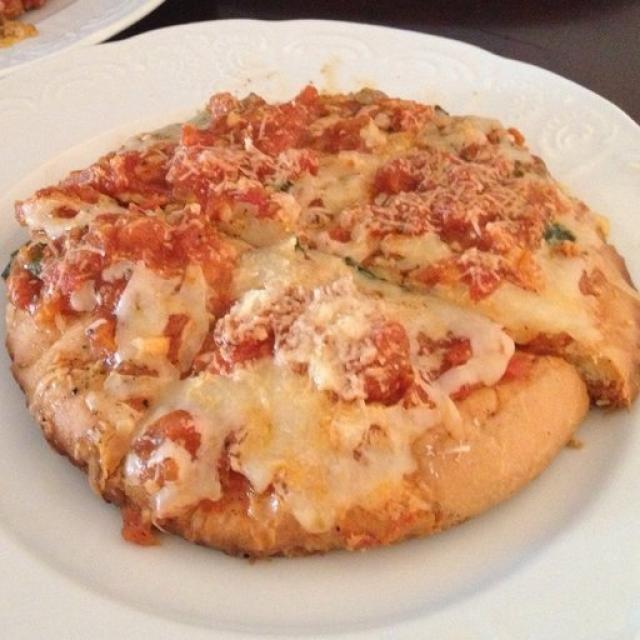Pizza: (12, 89, 640, 560)
Tomato: (366, 326, 418, 409), (371, 164, 432, 231), (222, 102, 306, 147), (127, 216, 205, 258), (219, 323, 273, 367), (112, 157, 166, 201), (58, 256, 99, 309), (161, 421, 208, 455), (45, 186, 106, 212), (314, 122, 366, 152), (238, 188, 286, 215), (23, 245, 44, 303), (468, 226, 488, 246), (455, 335, 468, 363)
